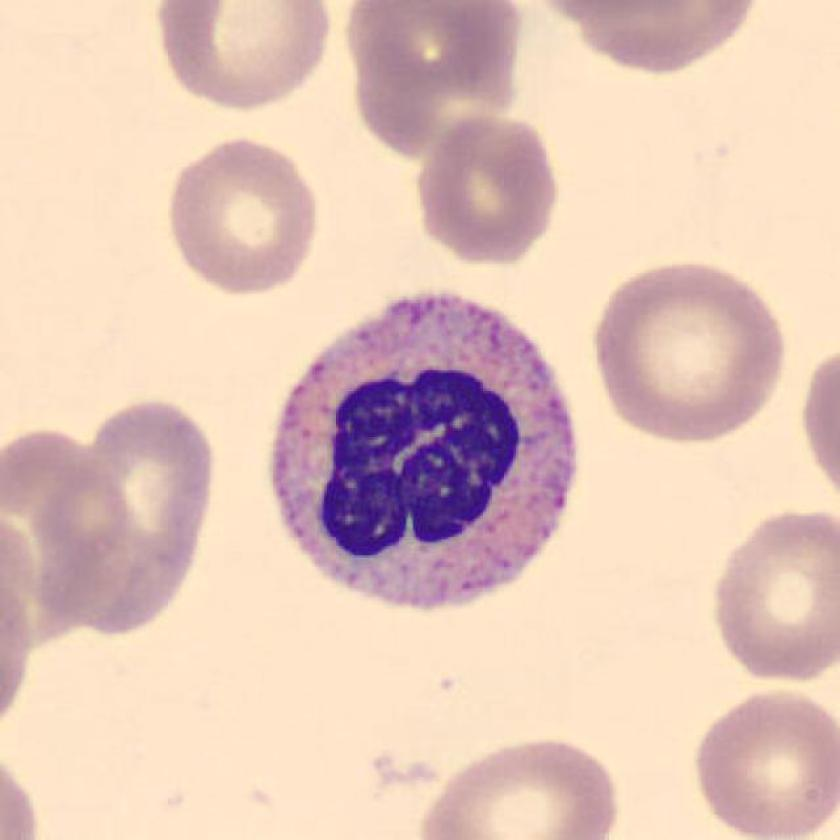neutrophil: (271, 296, 576, 609)
